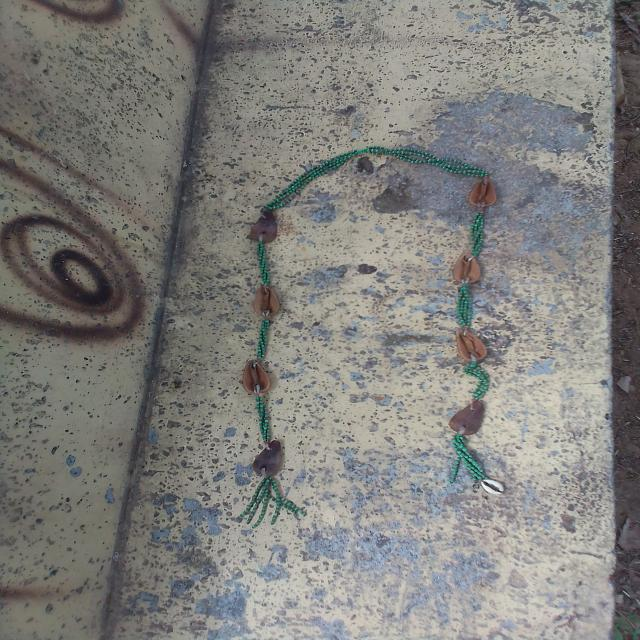facedown: (446, 398, 489, 438), (252, 436, 286, 481), (248, 209, 282, 246)
faceup: (452, 324, 490, 366), (240, 357, 274, 397), (249, 283, 283, 320), (451, 250, 483, 286), (466, 176, 498, 208)
